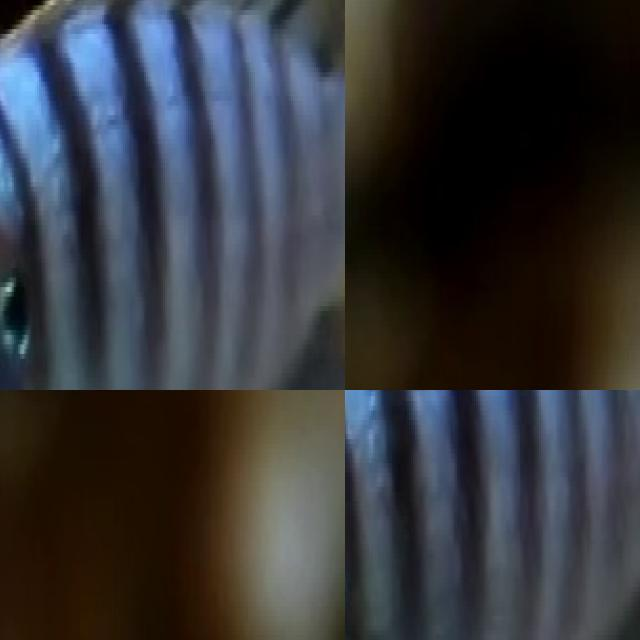fish: (0, 0, 345, 390)
